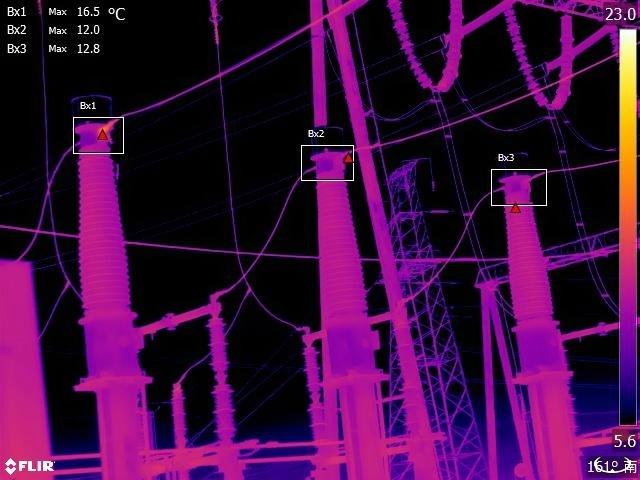current transformer: (61, 79, 148, 376), (306, 128, 390, 380), (496, 143, 573, 372)
insulator: (500, 1, 550, 110), (383, 1, 435, 92), (542, 18, 615, 74), (431, 1, 469, 95), (438, 1, 515, 46), (549, 11, 577, 116), (201, 1, 227, 41)
post insulator: (207, 318, 237, 441), (396, 322, 422, 433), (301, 345, 325, 444)
potential transformer: (170, 370, 191, 457)
switch: (137, 290, 231, 341), (300, 303, 413, 344), (559, 310, 620, 339)
